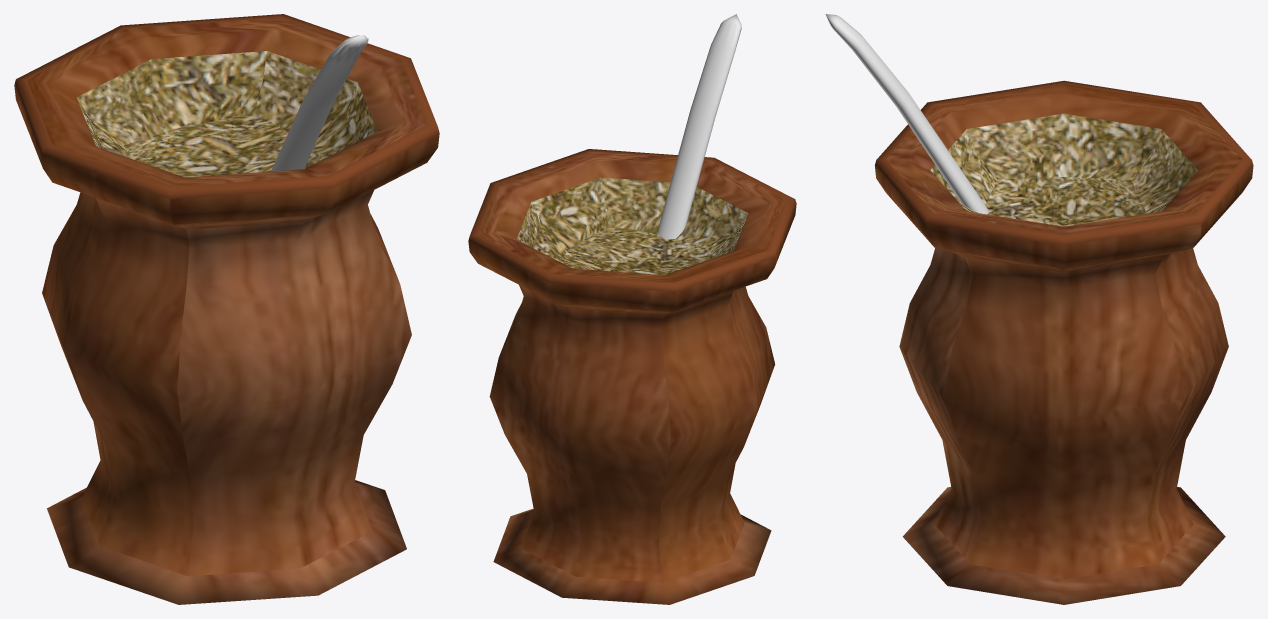
Rendered from Mate.glb.
The picture shows the model from 3 angles, left to right: view 1: azimuth 30°, elevation 25°; view 2: azimuth 150°, elevation 25°; view 3: azimuth 270°, elevation 25°; orthographic projection. The views are drawn at different scales.
Visible parts, largest first — view 1: Mate; view 2: Mate; view 3: Mate.
Part boxes in pixels (<box>): Mate: <box>14,14,439,604</box>; Mate: <box>468,14,796,604</box>; Mate: <box>825,14,1253,604</box>.
Bounding box in the file's own units: 1.83 × 2.79 × 2.07.
3 materials, 2 textured.
